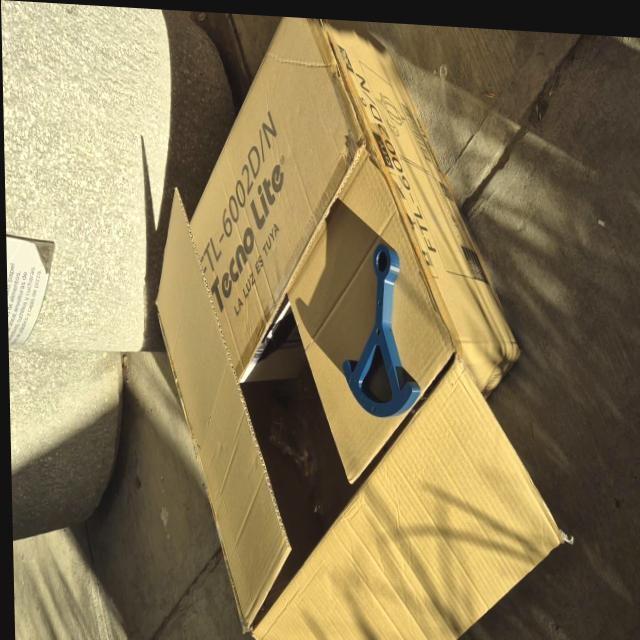haptic: (337, 240, 421, 421)
